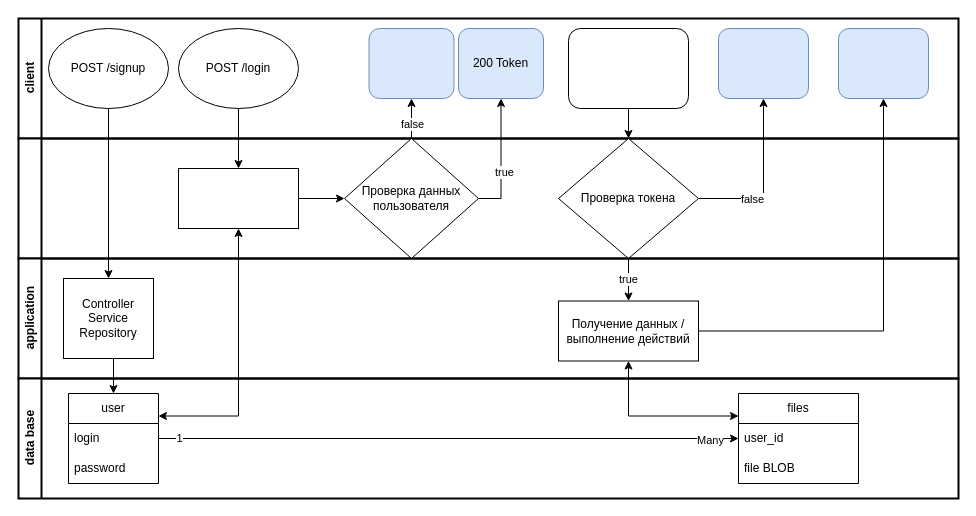
The diagram is 976 pixels wide and 516 high, and some of its shapes have lost their labels. The shapes that lost their labels are listed below. From the top down, each one's box as (x1, y1, x2, y2) in pixels, then its label:
(368, 28, 454, 98): 400 Bad credentials
(568, 28, 688, 108): POST /file DELETE /file GET /file PUT /file GET /list
(718, 28, 808, 98): 401 Unauthorized error
(838, 28, 928, 98): Данные/действия по запросу
(178, 168, 298, 228): Авторизация
(17, 137, 959, 259): security
